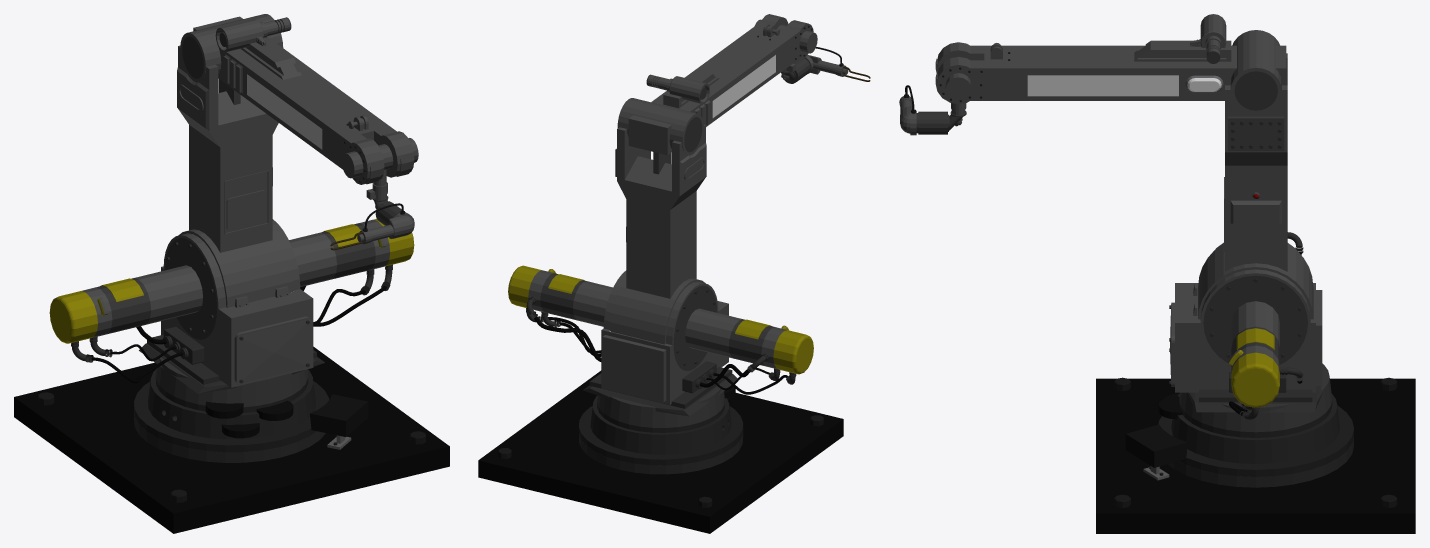
File: robotArm.obj
3 views of the same model, side by side, from view 1: azimuth 30°, elevation 25°; view 2: azimuth 150°, elevation 25°; view 3: azimuth 270°, elevation 25° (orthographic). The views are drawn at different scales.
Size of the model in its own units: 15.5 by 19.68 by 20.15.
